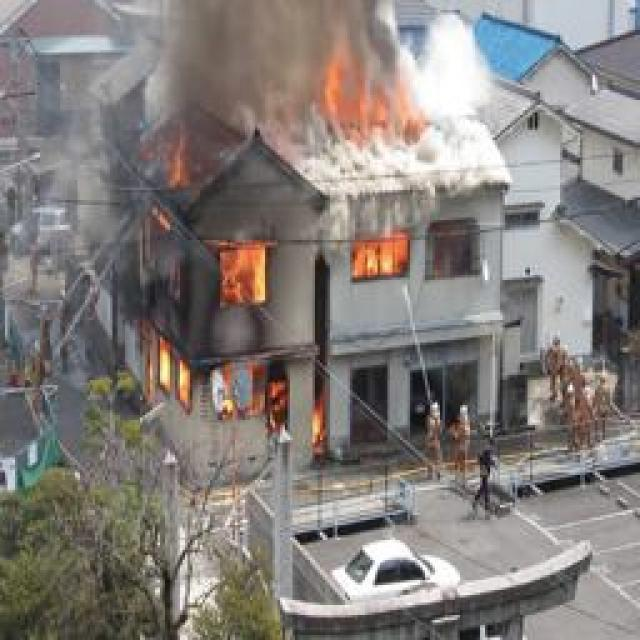Fire: (122, 136, 288, 437), (316, 54, 424, 150), (346, 216, 420, 284)
